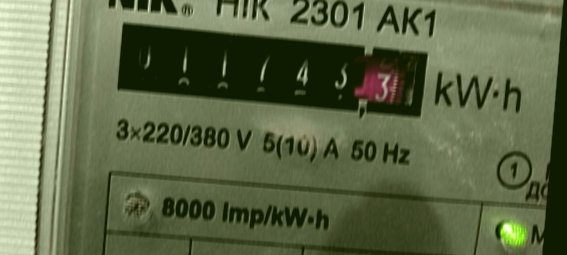0: (134, 36, 156, 74)
1: (217, 44, 235, 79), (180, 41, 193, 75)
3: (330, 57, 352, 93), (373, 72, 394, 107)
4: (294, 54, 313, 89)
7: (255, 49, 276, 85)
screen: (103, 11, 443, 133)
